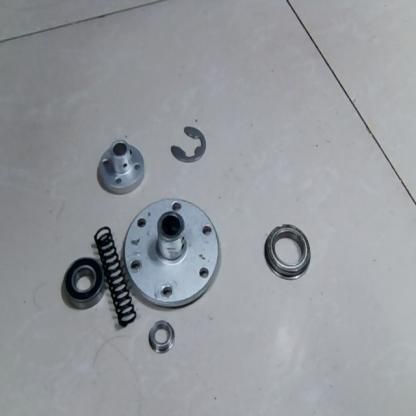FOD: (120, 196, 224, 312), (94, 223, 138, 333), (260, 219, 316, 284), (94, 139, 146, 197), (60, 253, 107, 313), (170, 122, 208, 166), (145, 319, 176, 356)
